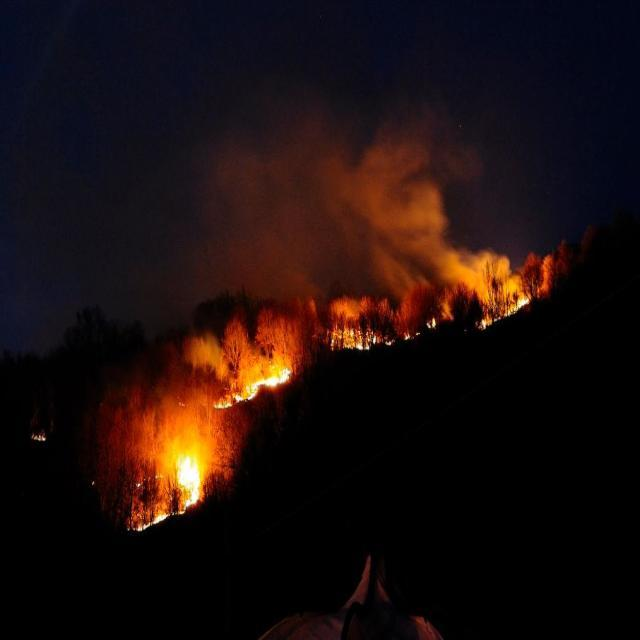Fire: (174, 447, 202, 514), (214, 385, 258, 409), (334, 324, 371, 350), (132, 509, 167, 534), (255, 364, 292, 387), (506, 296, 532, 316), (372, 334, 394, 346), (476, 316, 492, 332), (32, 434, 48, 444), (426, 317, 437, 330), (403, 332, 411, 341)
Smoke: (207, 129, 443, 305), (444, 247, 522, 301)
